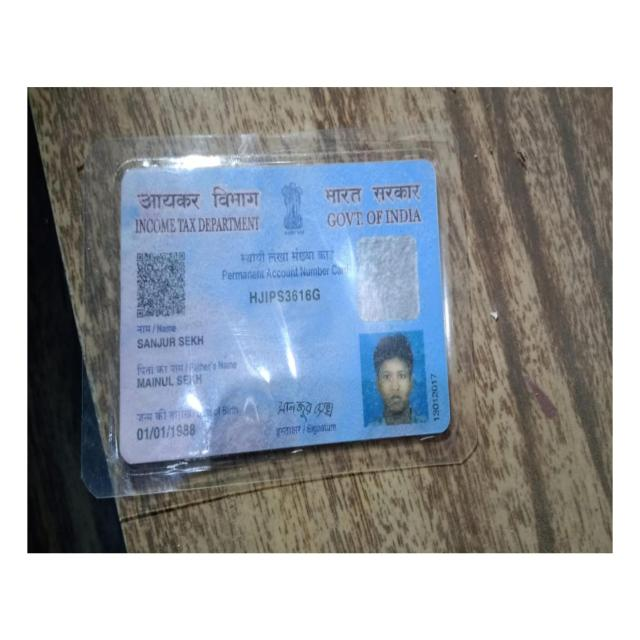pan_card: (122, 164, 448, 457)
